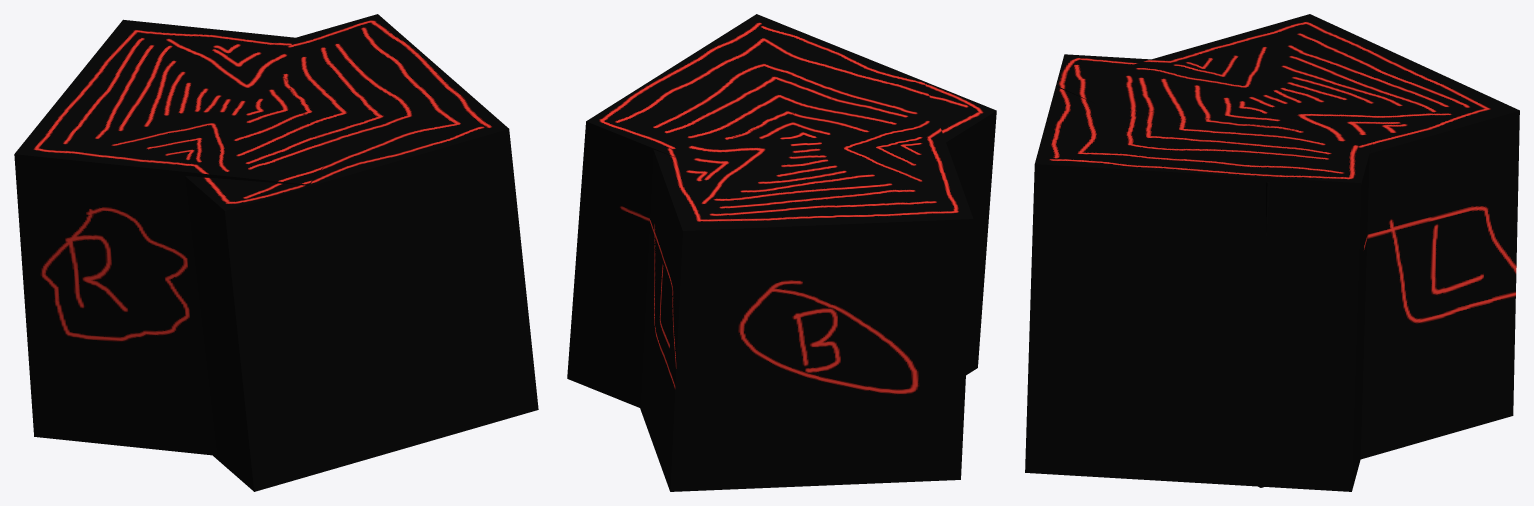
The model's file is man_mesh_arrow_old.fbx.
3 renders of one model, left to right at view 1: azimuth 30°, elevation 25°; view 2: azimuth 150°, elevation 25°; view 3: azimuth 270°, elevation 25°, orthographic. The views are drawn at different scales.
Visible parts, largest first — view 1: Cube.001; view 2: Cube.001; view 3: Cube.001.
Part boxes in pixels (x1=…): Cube.001: x1=14, y1=14, x2=538, y2=491; Cube.001: x1=567, y1=14, x2=996, y2=491; Cube.001: x1=1025, y1=14, x2=1519, y2=491.
Bounding box in the file's own units: 266 × 196 × 265.
1 material, 1 textured.
